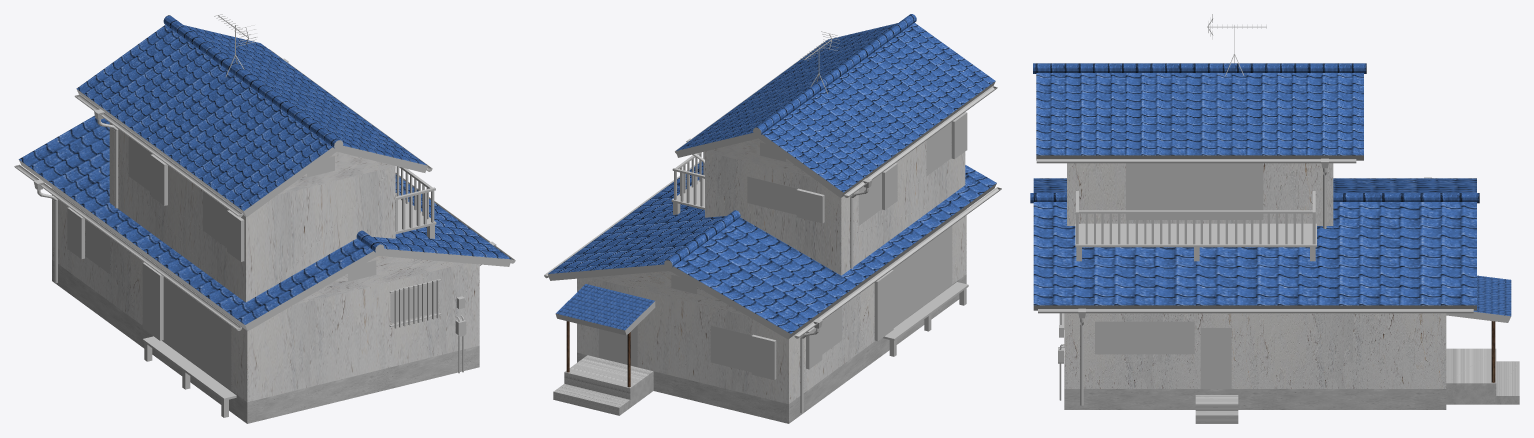
File: JapaneseHouse02.fbx
The picture shows the model from 3 angles, left to right: view 1: azimuth 30°, elevation 25°; view 2: azimuth 150°, elevation 25°; view 3: azimuth 270°, elevation 25°; orthographic projection. The views are drawn at different scales.
Parts seen in each view (by area): view 1: Empty_Mesh; view 2: Empty_Mesh; view 3: Empty_Mesh.
Part boxes in pixels (x1,y1,x2,y2): Empty_Mesh: (14, 14, 515, 423); Empty_Mesh: (544, 14, 1001, 423); Empty_Mesh: (1030, 14, 1519, 423).
Size of the model in its own units: 9.62 by 10.33 by 14.49.
